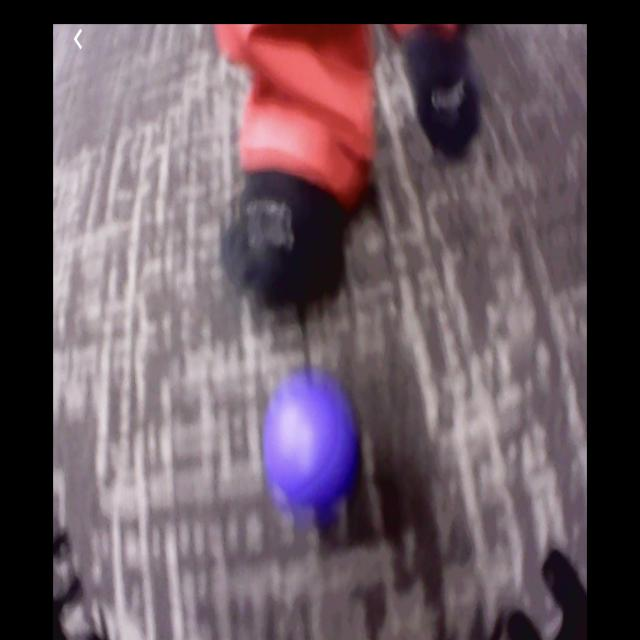ball: (262, 380, 356, 511)
